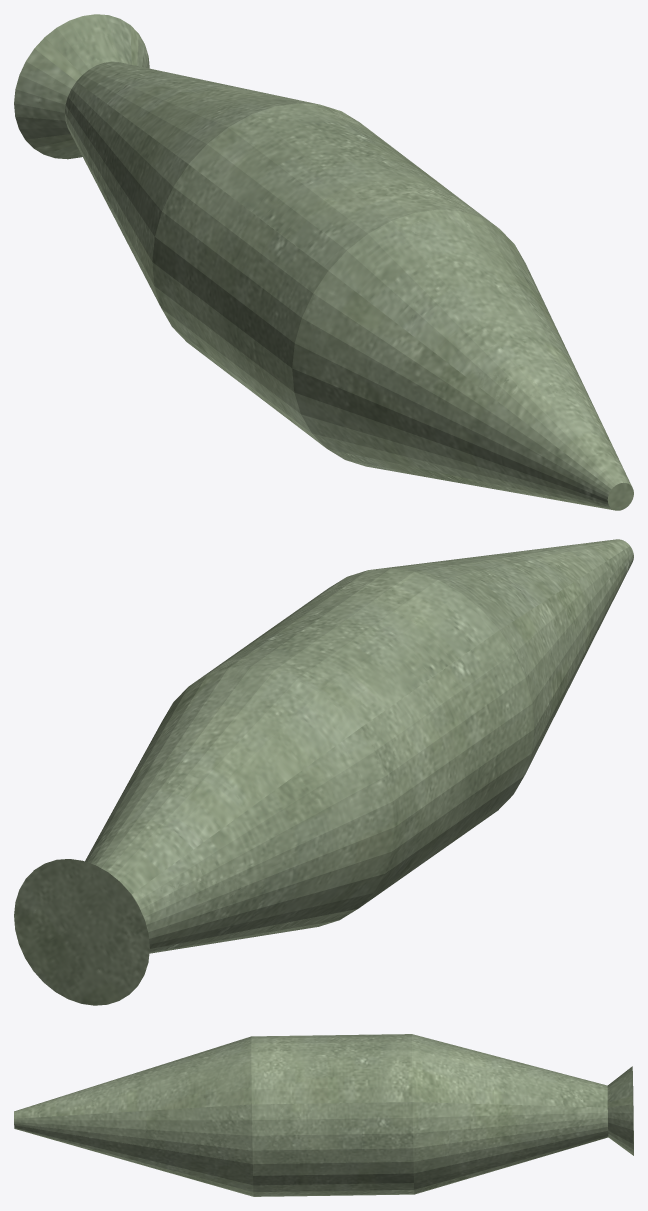
The model's file is RPG_Rocket.obj.
3 views of the same model, one above another, from view 1: azimuth 30°, elevation 25°; view 2: azimuth 150°, elevation 25°; view 3: azimuth 270°, elevation 25° (orthographic). The views are drawn at different scales.
Visible parts, largest first — view 1: Cylinder; view 2: Cylinder; view 3: Cylinder.
Part boxes in pixels (x1,y1,x2,y2): Cylinder: (14, 14, 633, 510); Cylinder: (14, 539, 633, 1005); Cylinder: (14, 1034, 633, 1196).
Bounding box in the file's own units: 0.3705 × 0.3764 × 1.43.
1 material, 1 textured.
